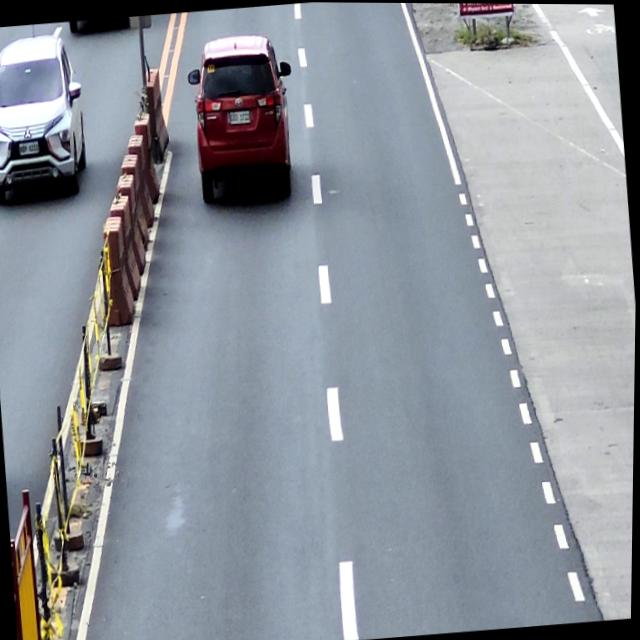Car: (182, 29, 302, 205), (0, 23, 92, 206)
License-Plate: (226, 107, 252, 126), (17, 139, 41, 156)
